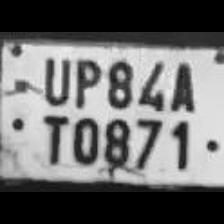0: (67, 110, 99, 168)
1: (163, 113, 195, 169)
4: (134, 54, 168, 110)
7: (130, 111, 162, 170)
8: (100, 111, 130, 172), (101, 54, 133, 110)
A: (165, 57, 199, 113)
P: (69, 54, 103, 110)
T: (33, 110, 69, 166)
U: (36, 52, 70, 104)
